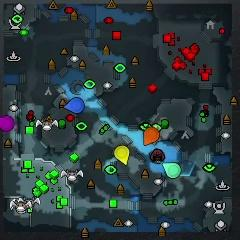p1: (64, 97, 85, 113)
p2: (163, 162, 180, 178)
p3: (0, 115, 15, 132)
p4: (115, 145, 128, 165)
p5: (144, 127, 159, 146)
